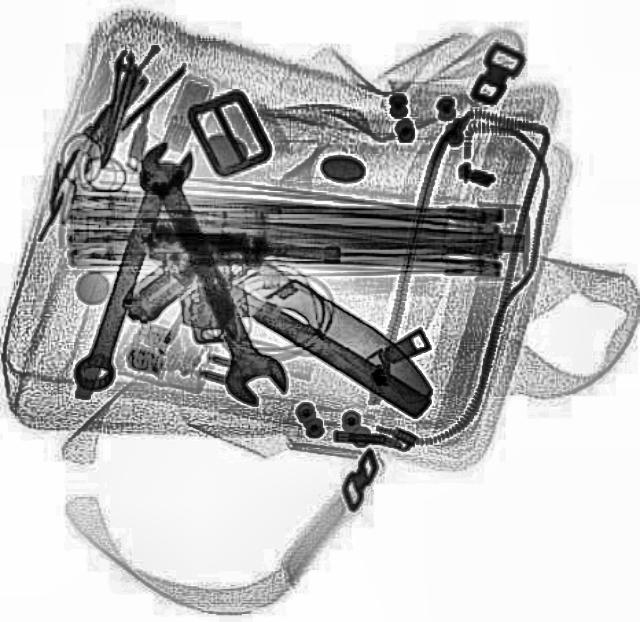Gun: (119, 216, 344, 348)
Knife: (134, 223, 432, 418), (186, 198, 440, 414)
Wrench: (124, 152, 292, 412), (59, 136, 198, 396)
